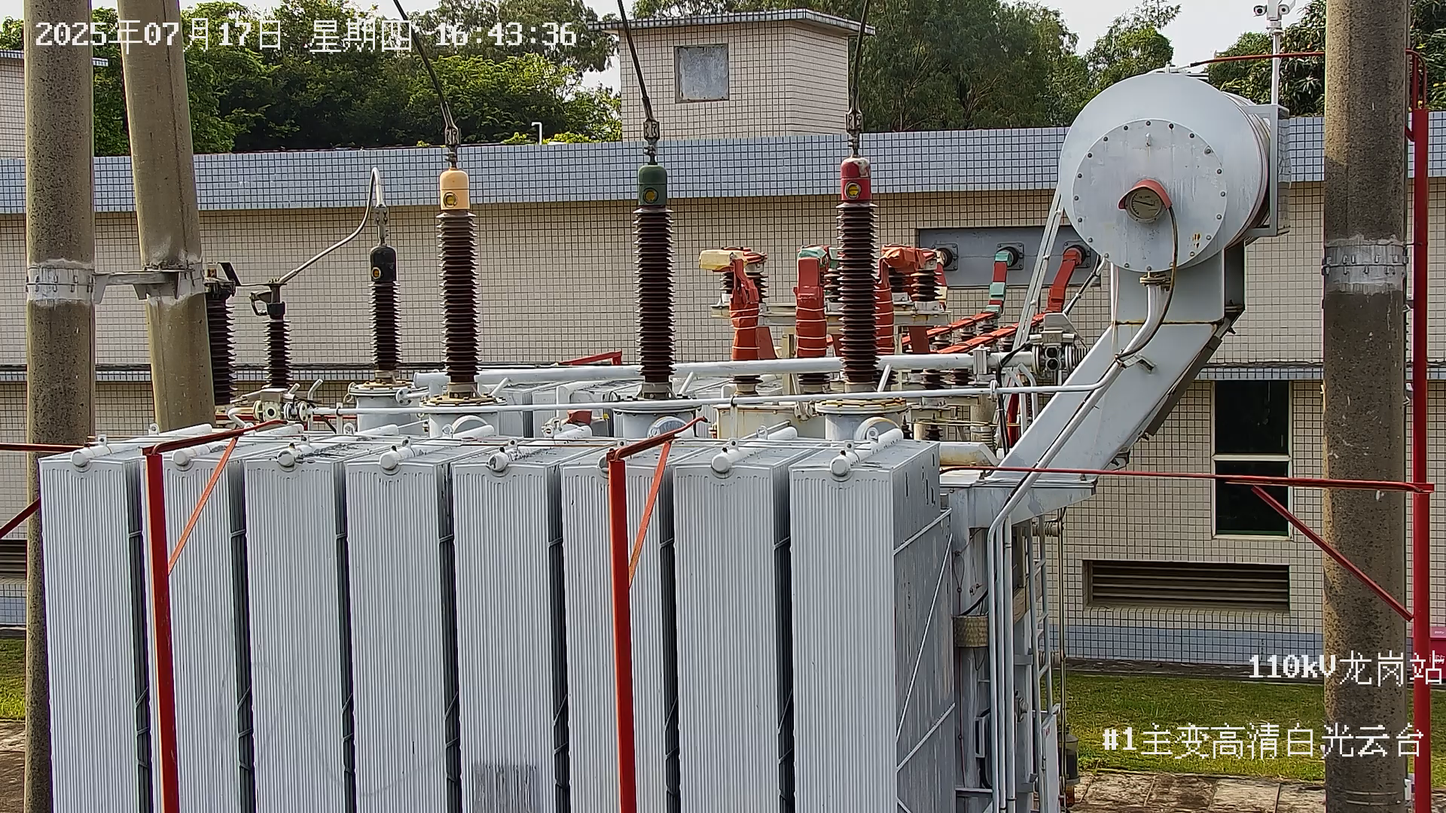MainTR: (35, 1, 1293, 813)
